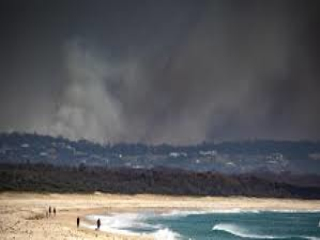smoke: (52, 41, 139, 152)
